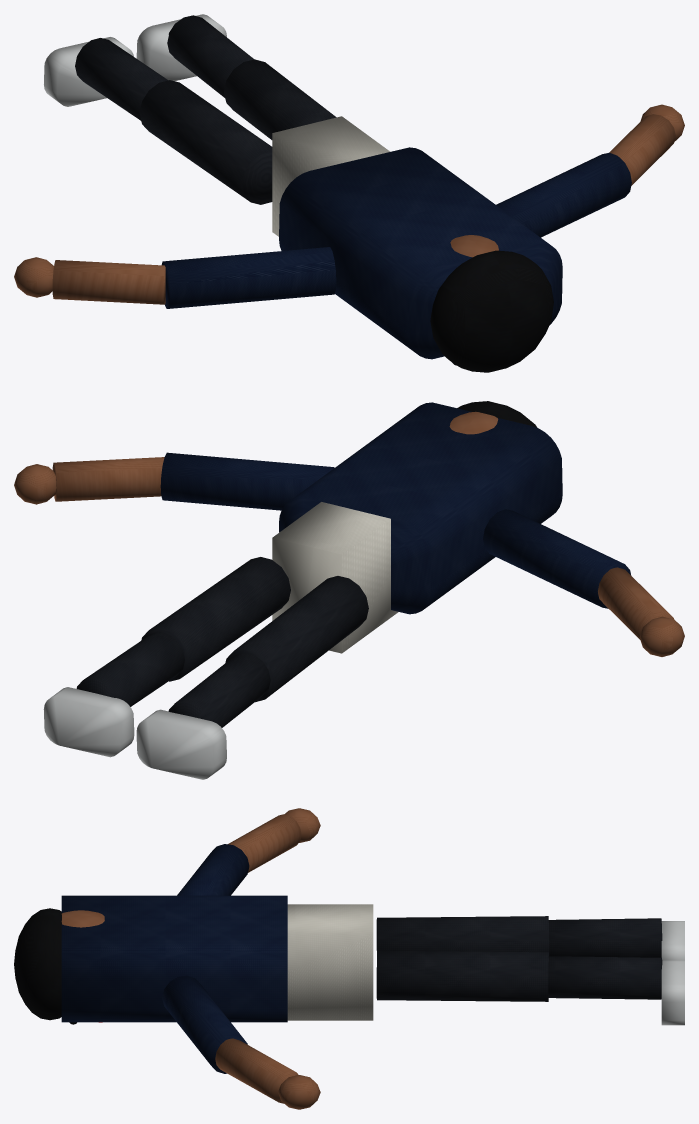
File: CHAR_MALE_001.glb
The picture shows the model from 3 angles, top to bottom: view 1: azimuth 30°, elevation 25°; view 2: azimuth 150°, elevation 25°; view 3: azimuth 270°, elevation 25°; orthographic projection. The views are drawn at different scales.
Parts seen in each view (by area): view 1: torso_jacket_003, hair_cap_001, thigh_011, upper_arm_005, upper_arm_008, shirt_panel_004, thigh_014, forearm_006, shin_012, shin_015, forearm_009, shoe_013 (+4 smaller); view 2: torso_jacket_003, shirt_panel_004, thigh_014, thigh_011, upper_arm_008, upper_arm_005, shoe_013, shoe_016, shin_015, forearm_009, shin_012, forearm_006 (+4 smaller); view 3: torso_jacket_003, shirt_panel_004, thigh_014, thigh_011, shin_015, hair_cap_001, shin_012, upper_arm_008, forearm_009, upper_arm_005, forearm_006, shoe_016 (+4 smaller).
Part boxes in pixels (<box>): torso_jacket_003: <box>279,147,562,359</box>; hair_cap_001: <box>430,250,553,372</box>; thigh_011: <box>139,80,272,204</box>; upper_arm_005: <box>161,247,336,308</box>; upper_arm_008: <box>496,152,631,237</box>; shirt_panel_004: <box>272,116,390,236</box>; thigh_014: <box>224,59,336,139</box>; forearm_006: <box>52,260,165,304</box>; shin_012: <box>75,38,167,120</box>; shin_015: <box>167,15,254,97</box>; forearm_009: <box>609,114,675,185</box>; shoe_013: <box>44,37,133,106</box>; torso_jacket_003: <box>279,402,562,614</box>; shirt_panel_004: <box>272,502,398,653</box>; thigh_014: <box>141,557,290,681</box>; thigh_011: <box>225,576,368,702</box>; upper_arm_008: <box>160,452,334,510</box>; upper_arm_005: <box>483,509,631,608</box>; shoe_013: <box>136,709,226,779</box>; shoe_016: <box>43,687,134,757</box>; shin_015: <box>76,632,184,706</box>; forearm_009: <box>52,457,164,501</box>; shin_012: <box>168,652,270,727</box>; forearm_006: <box>598,567,673,639</box>; torso_jacket_003: <box>61,895,287,1022</box>; shirt_panel_004: <box>287,904,373,1020</box>; thigh_014: <box>376,950,548,1001</box>; thigh_011: <box>376,916,549,955</box>; shin_015: <box>548,956,662,999</box>; hair_cap_001: <box>14,908,61,1020</box>; shin_012: <box>548,918,662,957</box>; upper_arm_008: <box>162,975,247,1073</box>; forearm_009: <box>215,1038,298,1103</box>; upper_arm_005: <box>177,844,249,895</box>; forearm_006: <box>228,814,301,872</box>; shoe_016: <box>661,960,684,1025</box>.
Bounding box in the file's own units: 1.72 × 0.2918 × 1.72.
Materials: 8 (8 with a texture image).
